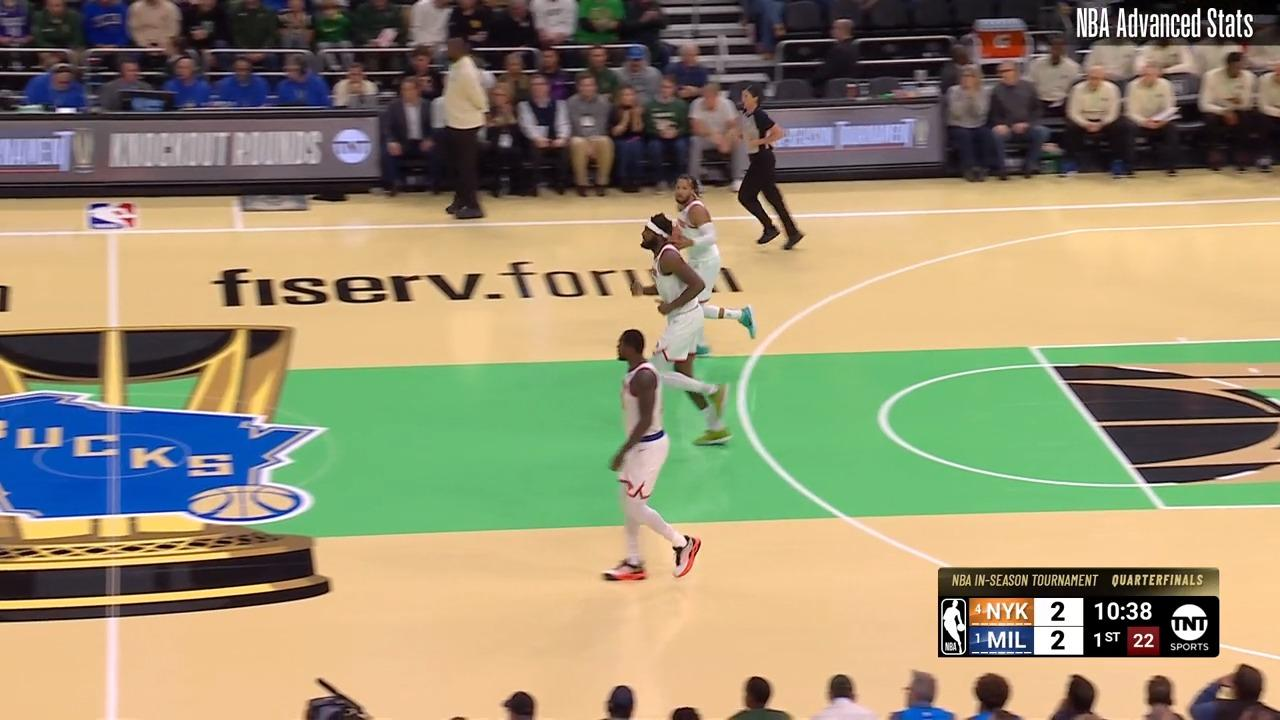Person: (598, 326, 699, 586), (639, 215, 747, 449), (666, 177, 755, 343)
Referee: (711, 86, 813, 255)
